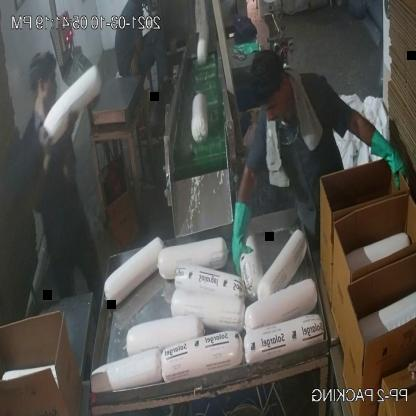glove: (217, 192, 266, 274), (364, 126, 412, 196)
no_glove: (26, 119, 60, 218)
